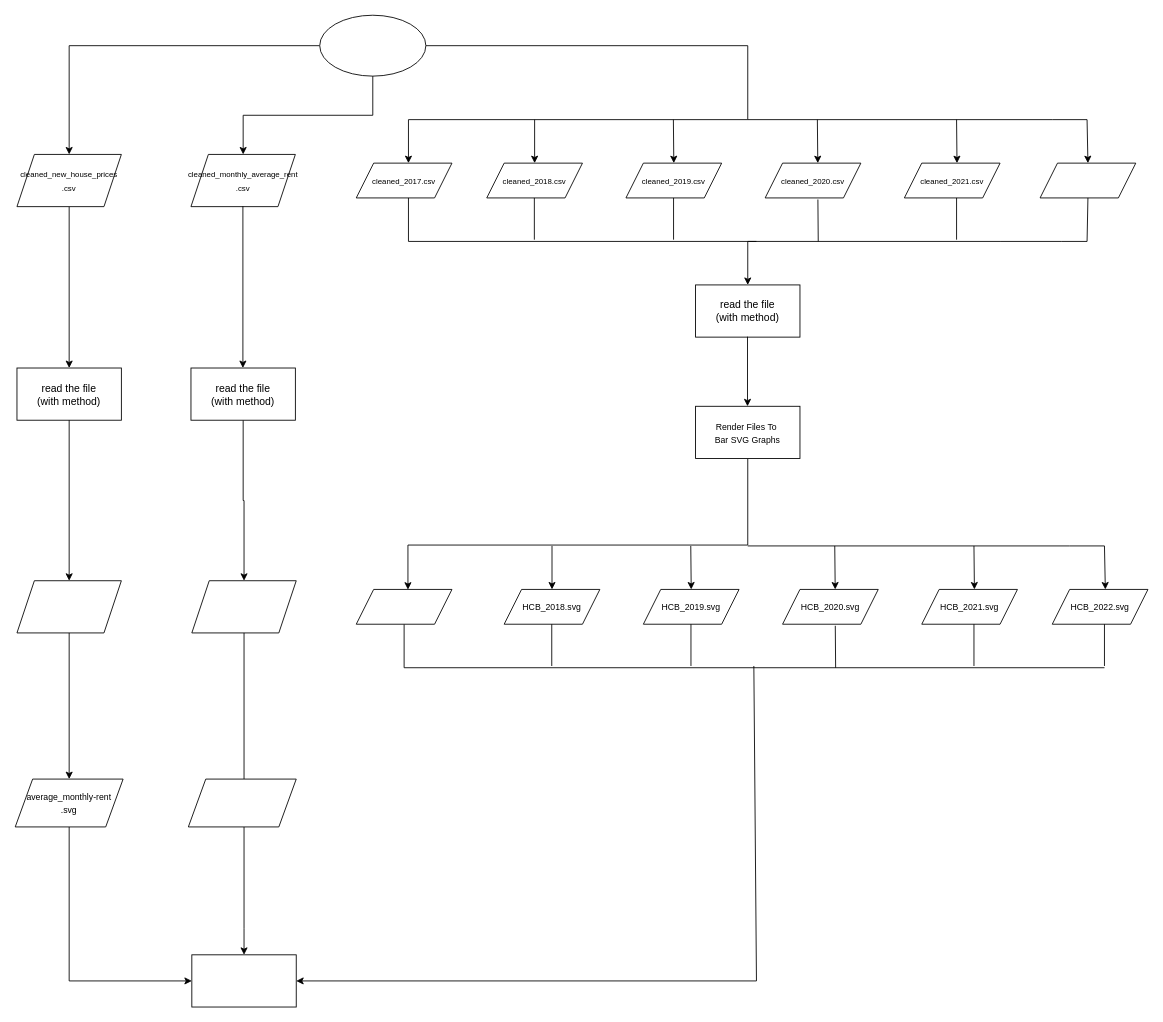
This 1163x1022 diagram has some shape labels left out. Each missing label, with the box of its shape:
cleaned_2022.csv: (1039, 162, 1136, 198)
end: (191, 954, 296, 1007)
extract from cleaned csv files: (319, 14, 426, 76)
HCB_2017.svg: (355, 589, 452, 624)
house_prices_by_area .svg: (187, 778, 296, 827)
Use Pygal To generate a line SVG graph: (16, 580, 121, 633)
Use Pygal To generate a pie SVG graph: (191, 580, 296, 633)
